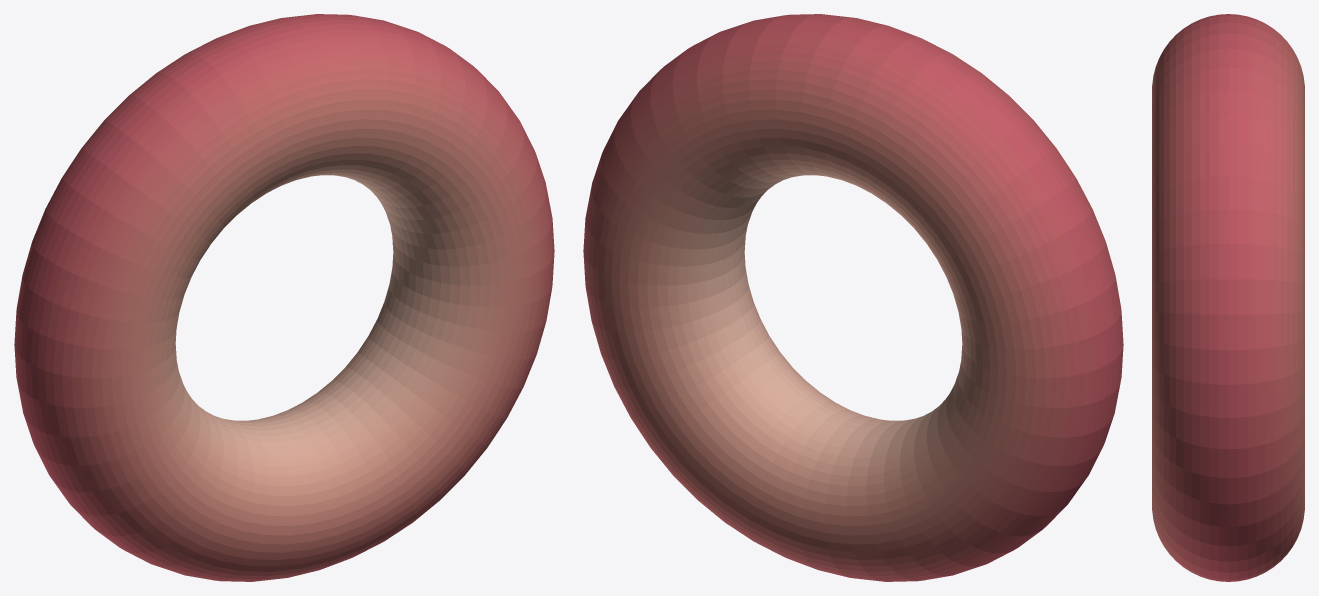
3 renders of one model, left to right at view 1: azimuth 30°, elevation 25°; view 2: azimuth 150°, elevation 25°; view 3: azimuth 270°, elevation 25°, orthographic. The views are drawn at different scales.
Parts seen in each view (by area): view 1: world; view 2: world; view 3: world.
Part boxes in pixels (x1,y1,x2,y2): world: [14, 14, 554, 581]; world: [583, 14, 1123, 581]; world: [1152, 14, 1304, 581].
Bounding box in the file's own units: 29.2 × 29.14 × 7.85.
